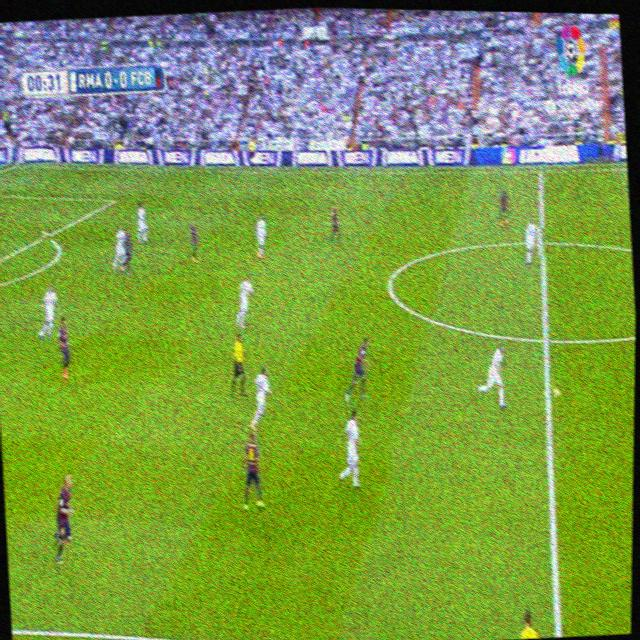bigarea_bottom_outter: (41, 226, 51, 244)
halfcircle_bottom: (535, 319, 555, 359)
halfcircle_top: (535, 226, 549, 257)
midline_top_intersection: (533, 161, 547, 183)
